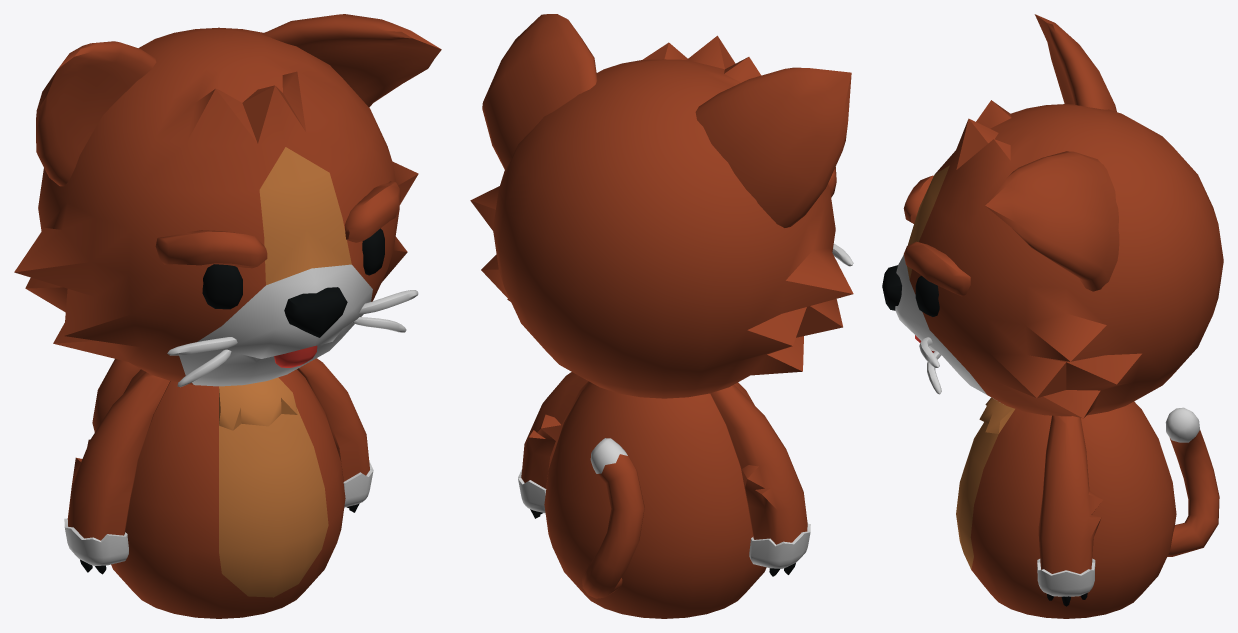
File: character_cat.obj
3 views of the same model, side by side, from view 1: azimuth 30°, elevation 25°; view 2: azimuth 150°, elevation 25°; view 3: azimuth 270°, elevation 25° (orthographic). The views are drawn at different scales.
Parts seen in each view (by area): view 1: character_cat_head_Cube.8504, character_cat_body_Cube.8503, character_cat_armRight_Cube.8506, character_cat_armLeft_Cube.8505; view 2: character_cat_head_Cube.8504, character_cat_body_Cube.8503, character_cat_armRight_Cube.8506, character_cat_armLeft_Cube.8505; view 3: character_cat_head_Cube.8504, character_cat_body_Cube.8503, character_cat_armLeft_Cube.8505.
Part boxes in pixels (x1,y1,x2,y2): character_cat_head_Cube.8504: (14, 14, 441, 387); character_cat_body_Cube.8503: (92, 359, 345, 618); character_cat_armRight_Cube.8506: (64, 371, 170, 574); character_cat_armLeft_Cube.8505: (297, 358, 373, 512); character_cat_head_Cube.8504: (470, 14, 853, 398); character_cat_body_Cube.8503: (544, 382, 766, 618); character_cat_armRight_Cube.8506: (710, 385, 810, 576); character_cat_armLeft_Cube.8505: (518, 372, 590, 518); character_cat_head_Cube.8504: (882, 14, 1223, 418); character_cat_body_Cube.8503: (956, 397, 1219, 618); character_cat_armLeft_Cube.8505: (1037, 415, 1103, 606).
Bounding box in the file's own units: 1.29 × 1.75 × 1.08.
